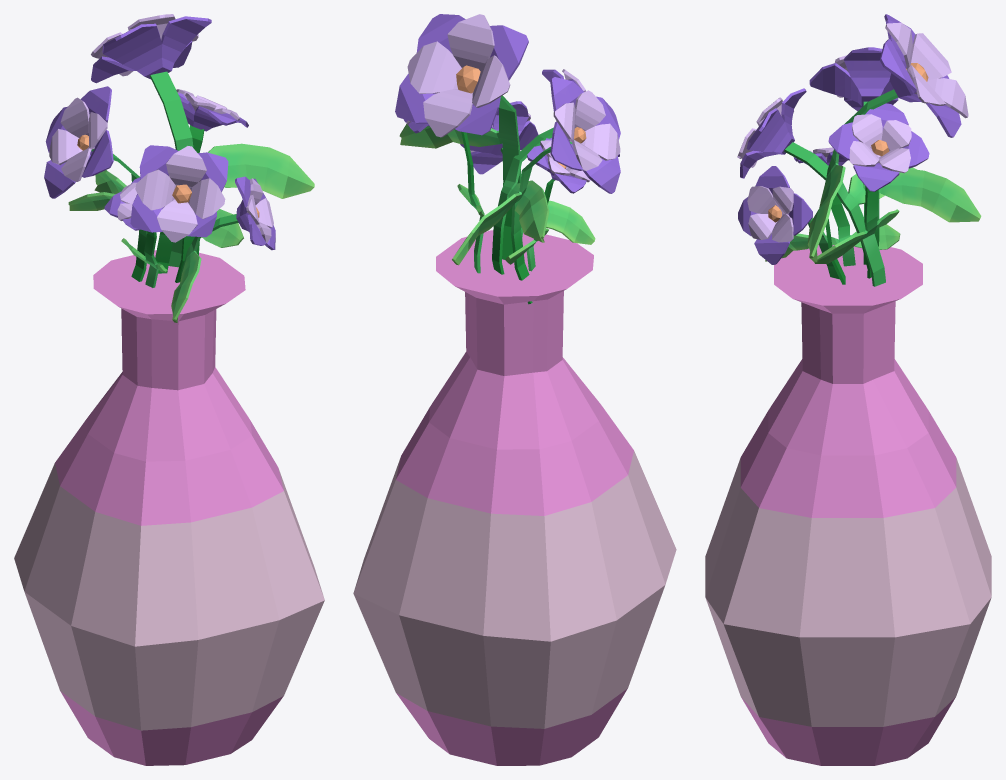
The model's file is vase.fbx.
3 views of the same model, side by side, from view 1: azimuth 30°, elevation 25°; view 2: azimuth 150°, elevation 25°; view 3: azimuth 270°, elevation 25° (orthographic). The views are drawn at different scales.
Visible parts, largest first — view 1: vase; view 2: vase; view 3: vase.
Boxes of the visible parts, x1,y1,x2,y2 form: vase: [14, 14, 324, 765]; vase: [353, 14, 676, 765]; vase: [705, 14, 991, 765].
Bounding box in the file's own units: 96.93 × 260 × 94.51.
